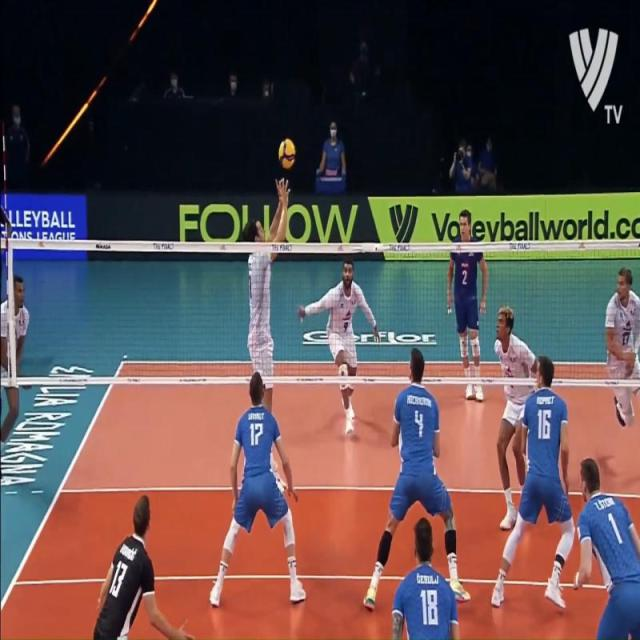volleyball: (278, 139, 295, 168)
